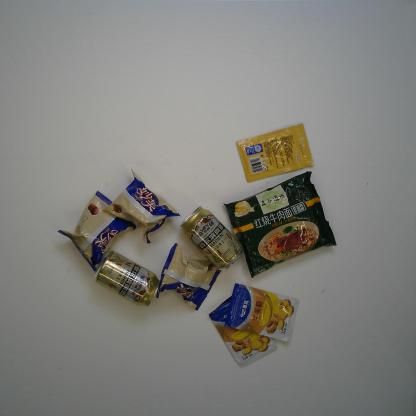Alcohol: (91, 248, 163, 310), (179, 205, 244, 272)
Dessert: (56, 190, 138, 272), (102, 168, 182, 246), (156, 242, 223, 312)
Instant Noodles: (223, 170, 338, 279)
Seasoner: (207, 293, 278, 369), (235, 121, 314, 185), (224, 283, 301, 344)
